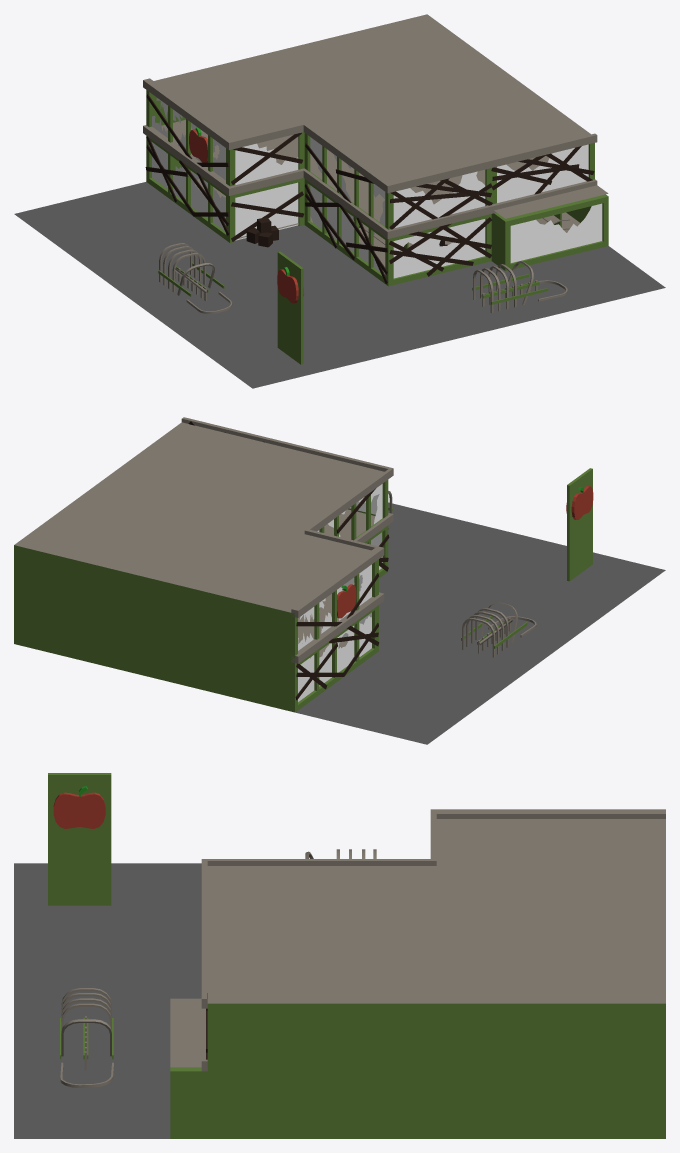
File: 2x2_Supermarket.col.glb
The picture shows the model from 3 angles, top to bottom: view 1: azimuth 30°, elevation 25°; view 2: azimuth 150°, elevation 25°; view 3: azimuth 270°, elevation 25°; orthographic projection. The views are drawn at different scales.
Parts seen in each view (by area): view 1: 2x2_Supermarket.col; view 2: 2x2_Supermarket.col; view 3: 2x2_Supermarket.col.
Part boxes in pixels (bbox=[...]): 2x2_Supermarket.col: bbox=[14, 14, 665, 388]; 2x2_Supermarket.col: bbox=[14, 417, 665, 744]; 2x2_Supermarket.col: bbox=[14, 773, 665, 1138].
Bounding box in the file's own units: 40 × 9.49 × 40.
